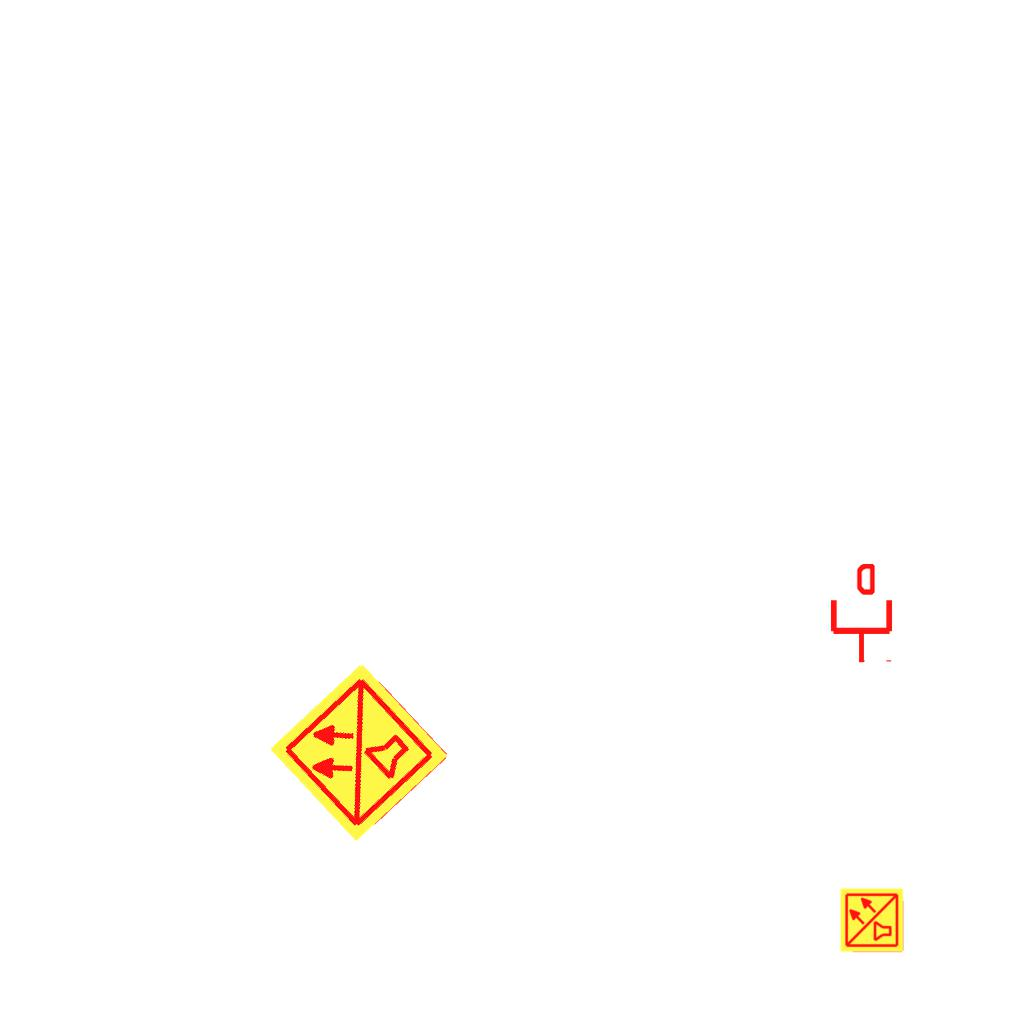Datenanschluss_einfach: (827, 564, 896, 664)
OKW_Multisensormelder_(Kombination_optischer_Rauch-Kahlenmonoxid_Waerme-Melder): (265, 658, 453, 846), (839, 887, 905, 953)
